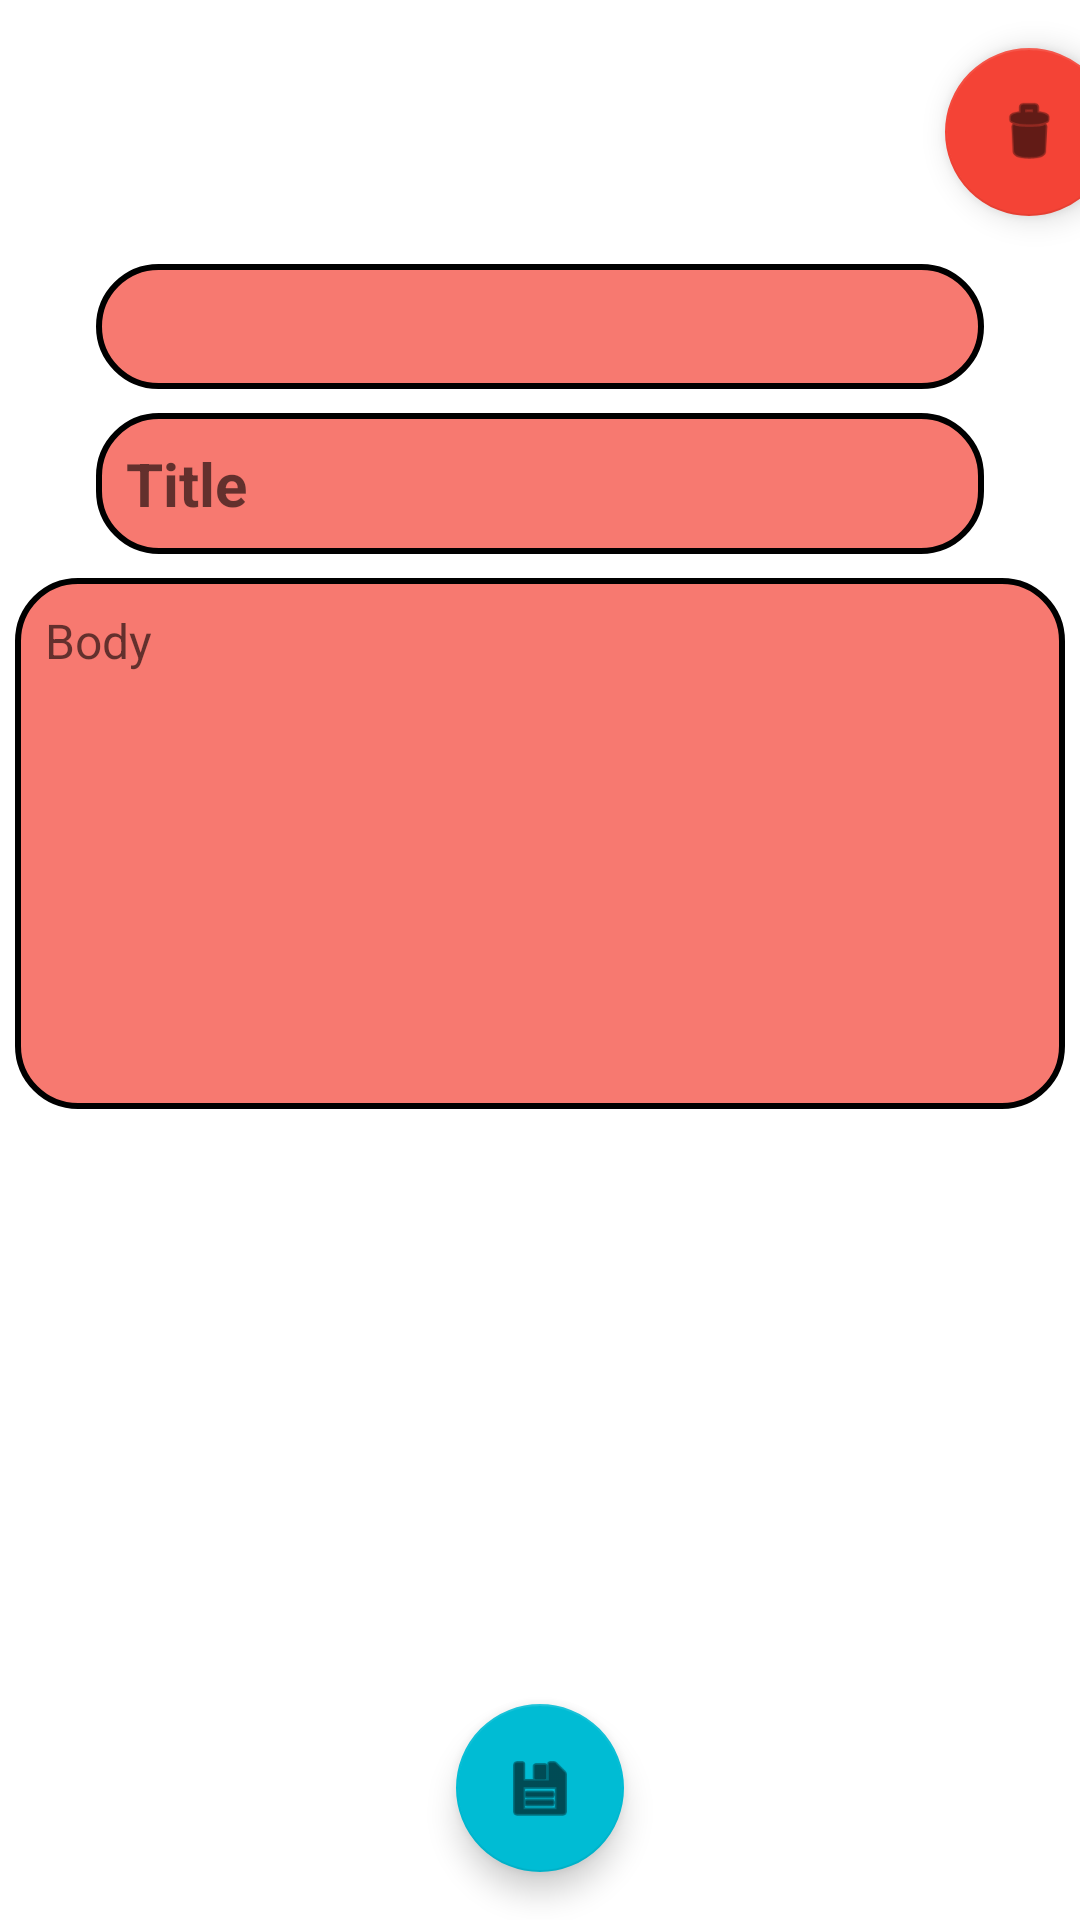

Locate icon controls on the screen. Image size 1080 × 1920, boxes as (x1, y1, x2, y2).
save: (456, 1704, 624, 1872)
